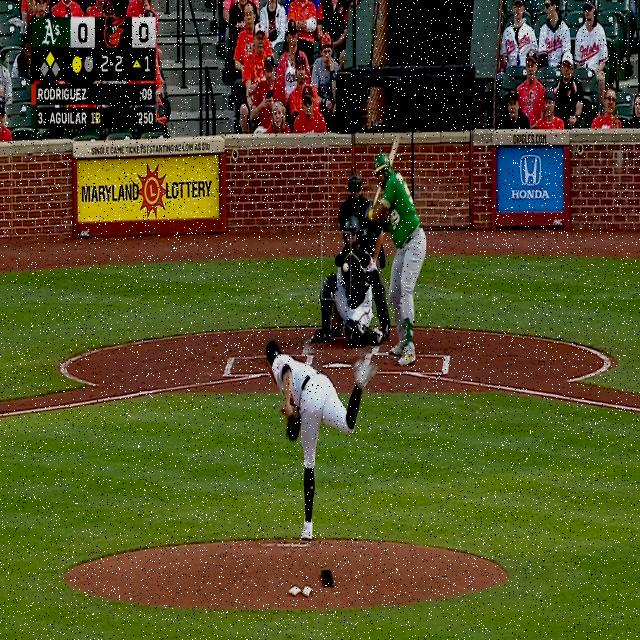baseball: (343, 262, 349, 273)
